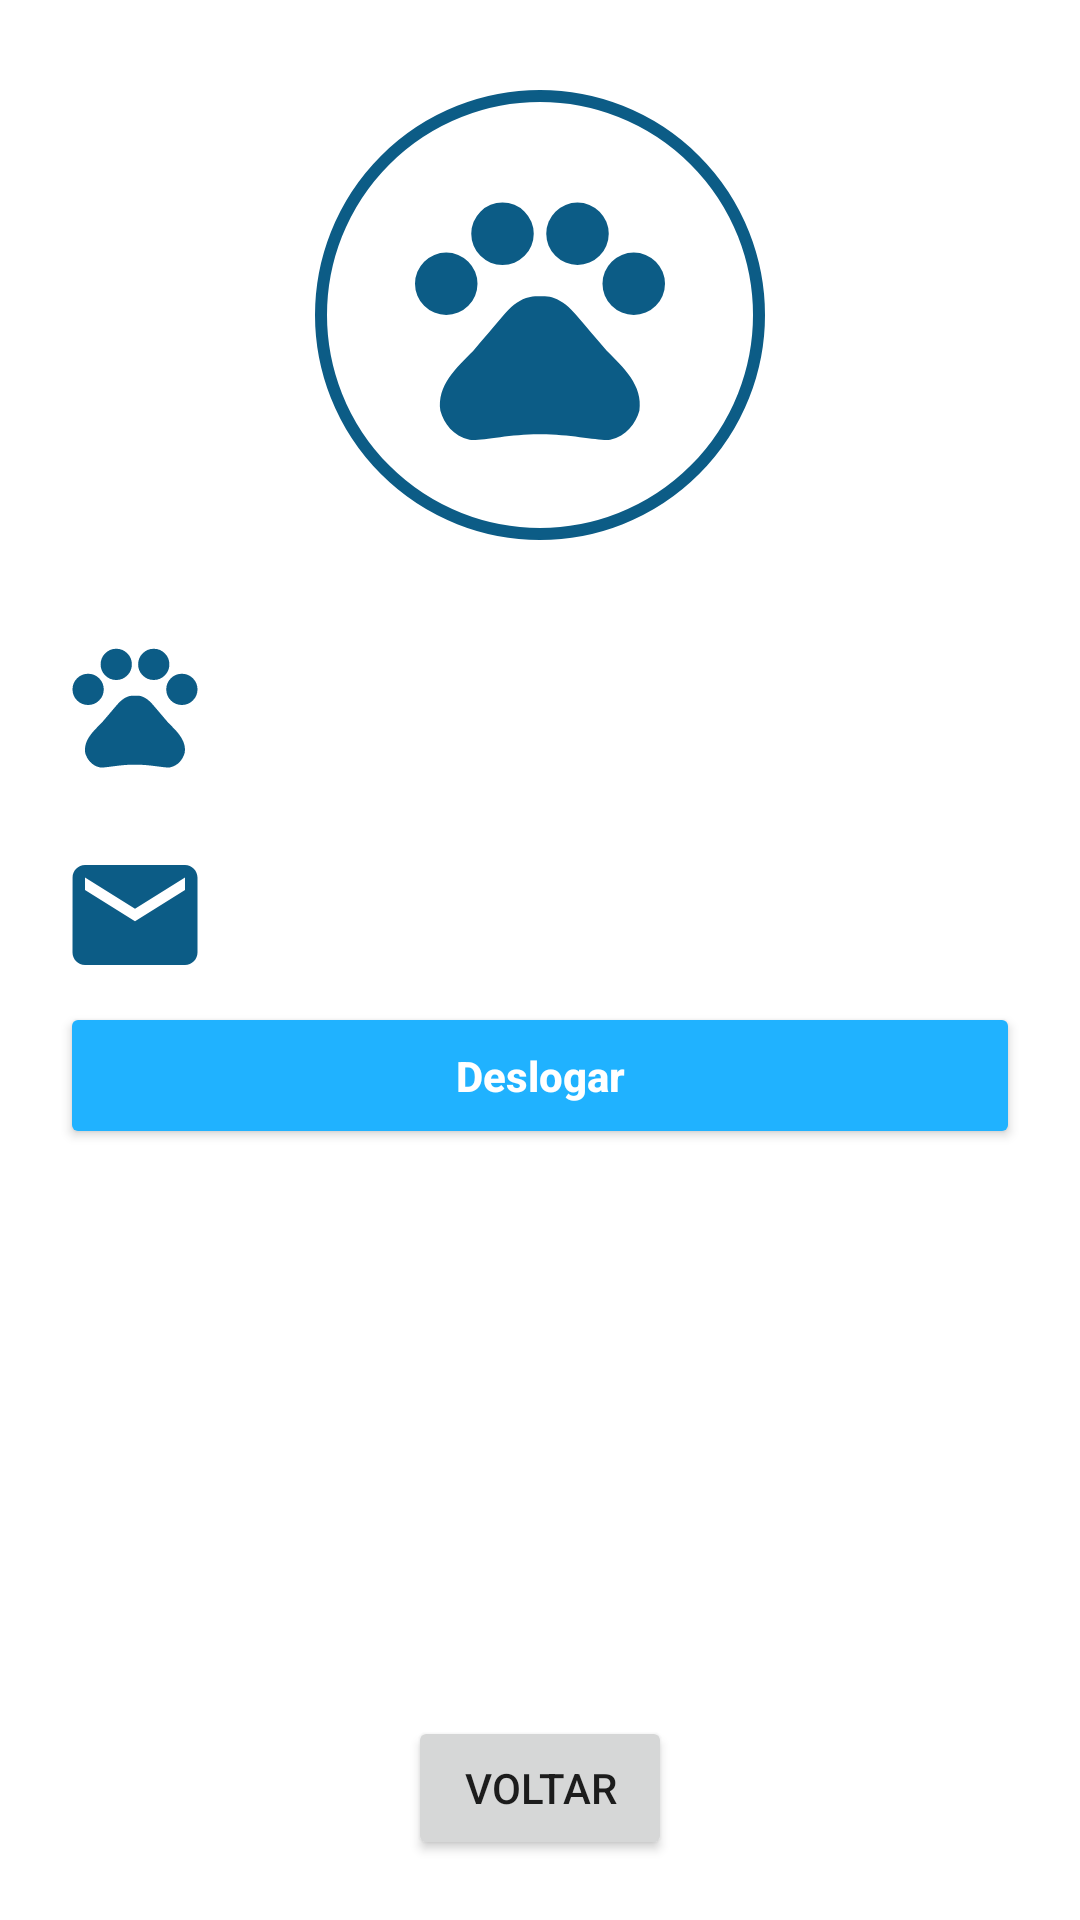

Screen size 1080x1920. Icon name, then its center in pixels as point (x, y):
email: point (135, 915)
